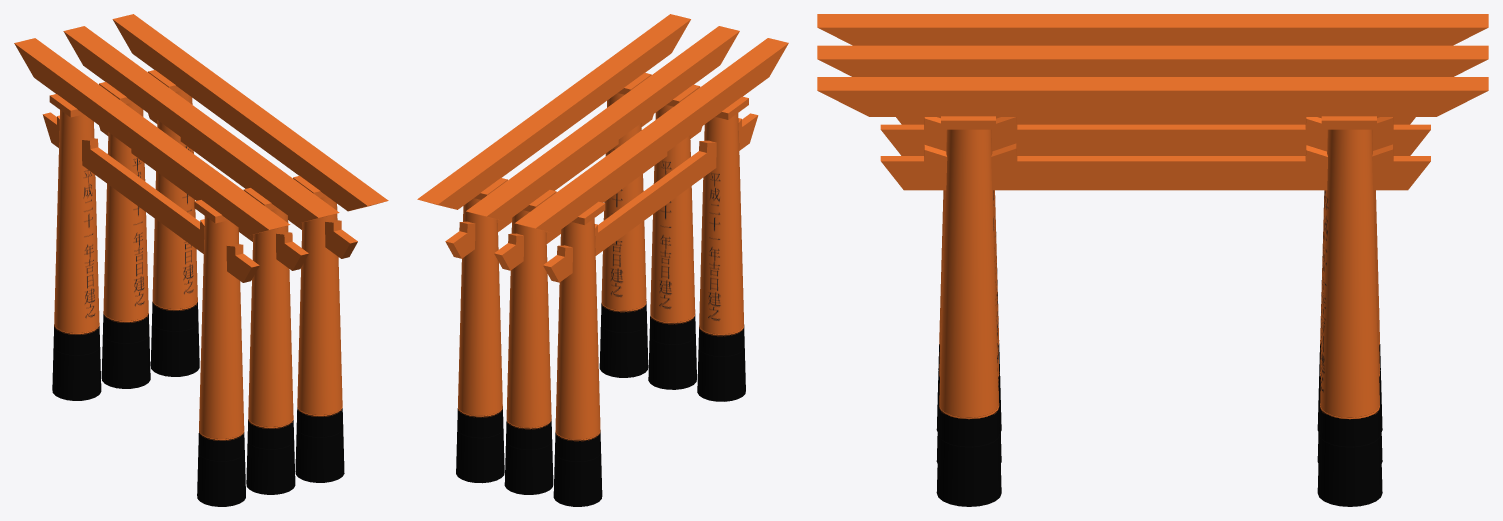
File: tori_1.fbx
The picture shows the model from 3 angles, left to right: view 1: azimuth 30°, elevation 25°; view 2: azimuth 150°, elevation 25°; view 3: azimuth 270°, elevation 25°; orthographic projection. The views are drawn at different scales.
Parts seen in each view (by area): view 1: toriiCube6, toriiCube5, toriiCube4; view 2: toriiCube6, toriiCube5, toriiCube4; view 3: toriiCube4, toriiCube5, toriiCube6.
Boxes of the visible parts, left/top/right/bottom form: toriiCube6: left=14, top=38, right=290, bottom=506; toriiCube5: left=63, top=26, right=339, bottom=494; toriiCube4: left=112, top=14, right=388, bottom=482; toriiCube6: left=515, top=38, right=788, bottom=506; toriiCube5: left=466, top=26, right=739, bottom=494; toriiCube4: left=417, top=14, right=690, bottom=483; toriiCube4: left=817, top=77, right=1488, bottom=506; toriiCube5: left=817, top=45, right=1488, bottom=463; toriiCube6: left=817, top=14, right=1488, bottom=431.
Bounding box in the file's own units: 15.87 × 33.48 × 49.74.
